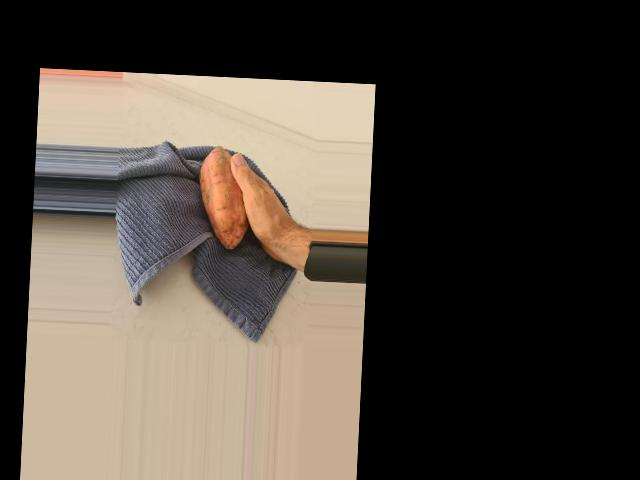sweet_potato: (194, 142, 255, 250)
